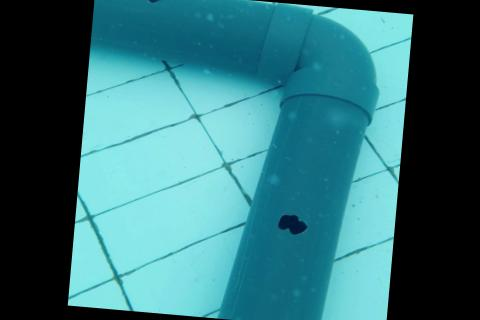kebocoran: (274, 211, 308, 236), (140, 0, 163, 3)
